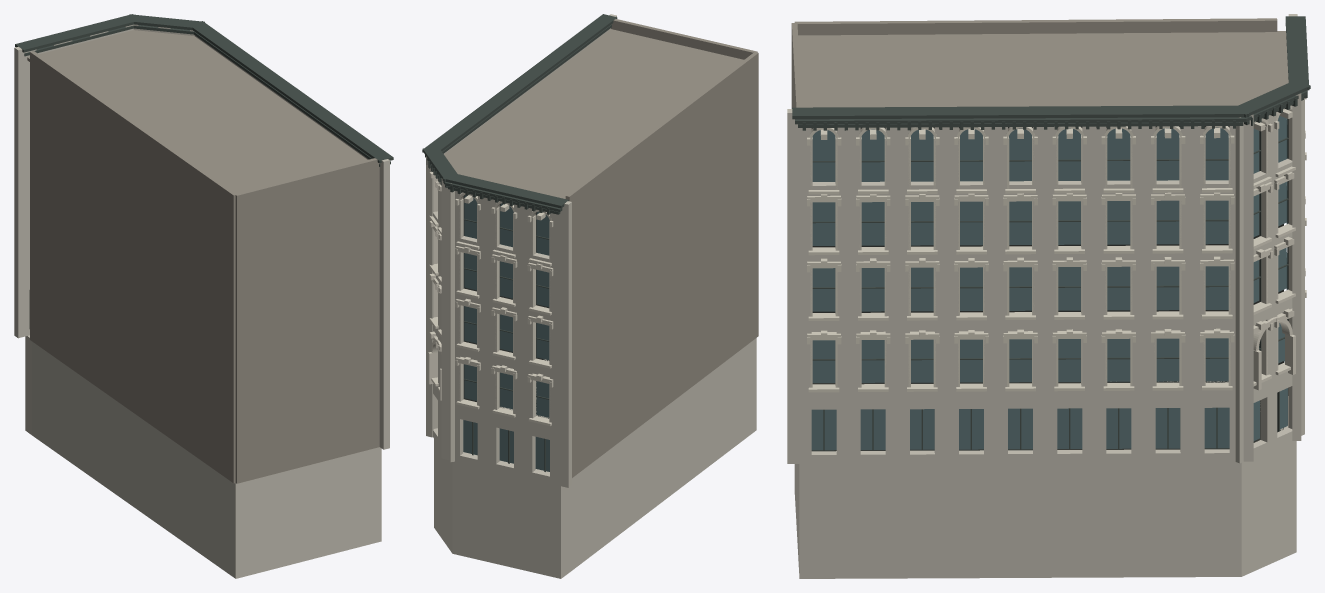
File: washington_block.glb
3 views of the same model, side by side, from view 1: azimuth 30°, elevation 25°; view 2: azimuth 150°, elevation 25°; view 3: azimuth 270°, elevation 25° (orthographic). The views are drawn at different scales.
Parts seen in each view (by area): view 1: Unsurveyed party masonry and roof, Limestone facade, Dark sash and cornice; view 2: Unsurveyed party masonry and roof, Limestone facade, Projecting carved limestone surrounds, Dark sash and cornice, Separate recessed opaque panes, Opaque interior backing; view 3: Limestone facade, Separate recessed opaque panes, Unsurveyed party masonry and roof, Projecting carved limestone surrounds, Dark sash and cornice, Opaque interior backing.
Boxes of the visible parts, bbox=[...] form: Unsurveyed party masonry and roof: bbox=[27, 30, 379, 483]; Limestone facade: bbox=[14, 24, 389, 578]; Dark sash and cornice: bbox=[15, 14, 393, 328]; Unsurveyed party masonry and roof: bbox=[444, 19, 758, 477]; Limestone facade: bbox=[426, 14, 756, 578]; Projecting carved limestone surrounds: bbox=[428, 171, 553, 426]; Dark sash and cornice: bbox=[422, 14, 617, 471]; Separate recessed opaque panes: bbox=[463, 195, 549, 471]; Opaque interior backing: bbox=[463, 195, 549, 418]; Limestone facade: bbox=[787, 14, 1304, 578]; Separate recessed opaque panes: bbox=[811, 115, 1287, 450]; Unsurveyed party masonry and roof: bbox=[791, 18, 1288, 108]; Projecting carved limestone surrounds: bbox=[807, 98, 1306, 392]; Dark sash and cornice: bbox=[792, 16, 1310, 451]; Opaque interior backing: bbox=[811, 126, 1283, 451].
Size of the model in its own units: 14.99 by 32.01 by 32.42.
